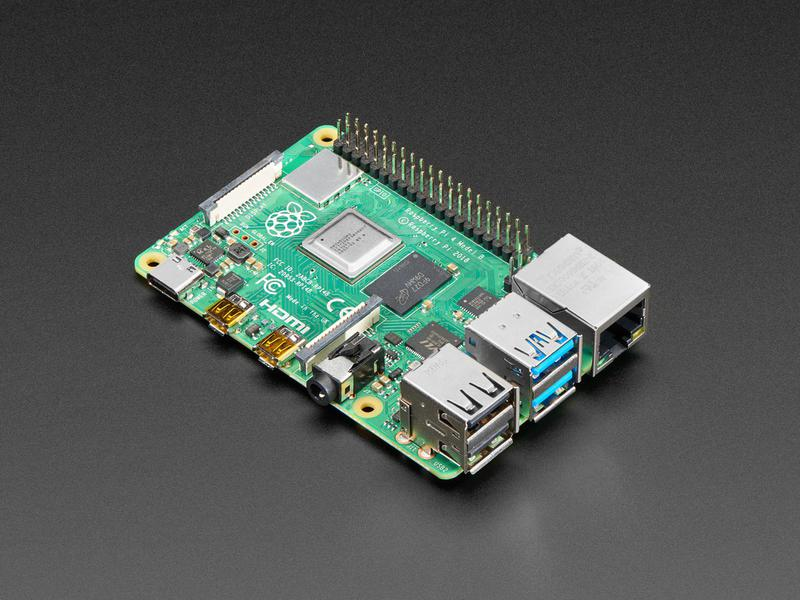Raspberry Pi: (131, 105, 655, 484)
